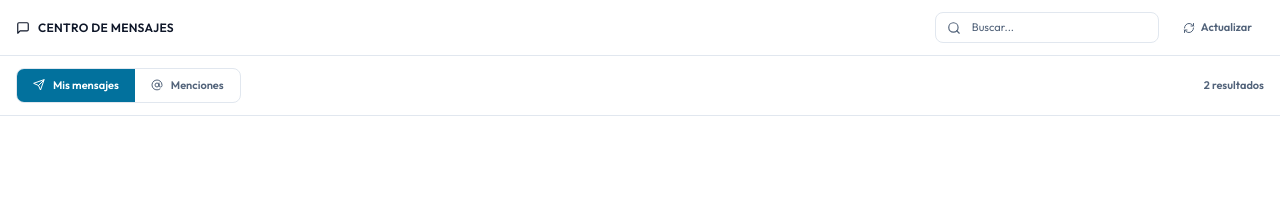
Scenario: ChatAdminPage › renders plural mention count
Click the button "Menciones": point(187, 85) x1=135 y1=69 x2=240 y2=102
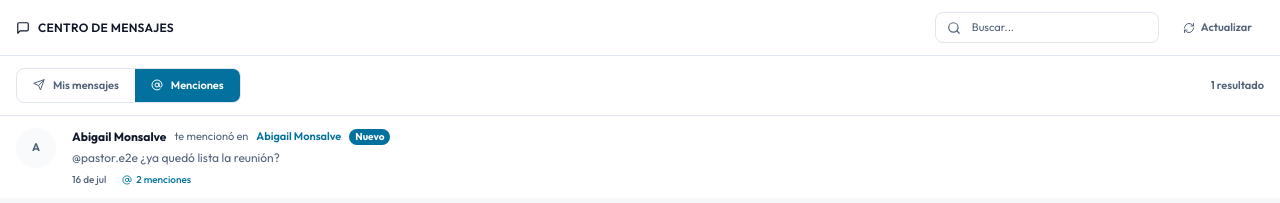
Expected: the text "2 menciones" is shown, x1=122 y1=174 x2=191 y2=186
